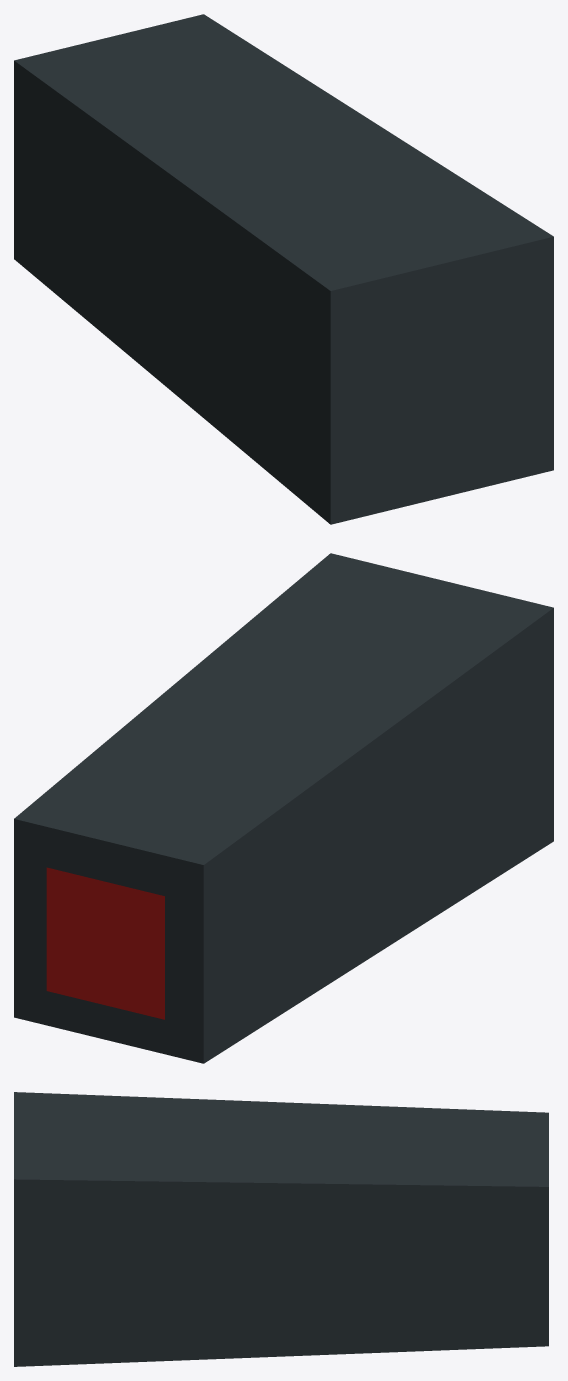
The picture shows the model from 3 angles, top to bottom: view 1: azimuth 30°, elevation 25°; view 2: azimuth 150°, elevation 25°; view 3: azimuth 270°, elevation 25°; orthographic projection. The views are drawn at different scales.
Parts seen in each view (by area): view 1: mount; view 2: mount; view 3: mount.
Boxes of the visible parts, left/top/right/bottom form: mount: left=14, top=14, right=553, bottom=524; mount: left=14, top=553, right=553, bottom=1063; mount: left=14, top=1092, right=548, bottom=1366.
Bounding box in the file's own units: 1.24 × 1.24 × 3.23.
